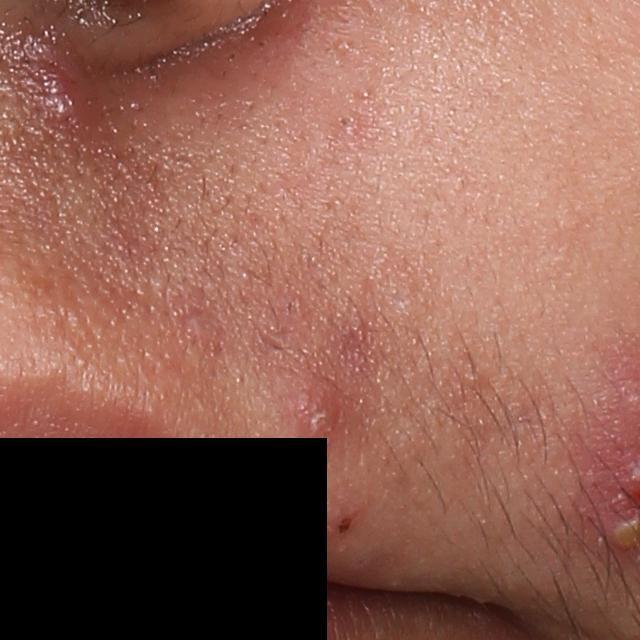comedo: (337, 109, 357, 129)
papule: (287, 371, 347, 437), (37, 72, 94, 130)
